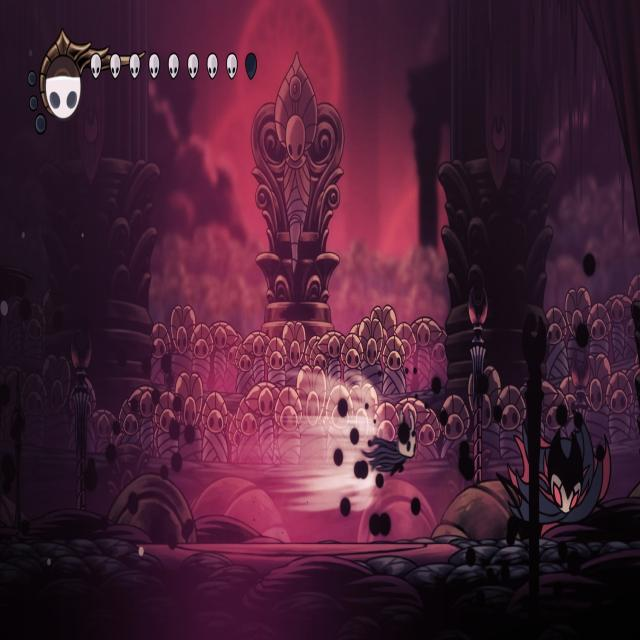Dive Dash: (494, 406, 626, 541)
Player: (361, 403, 419, 478)
